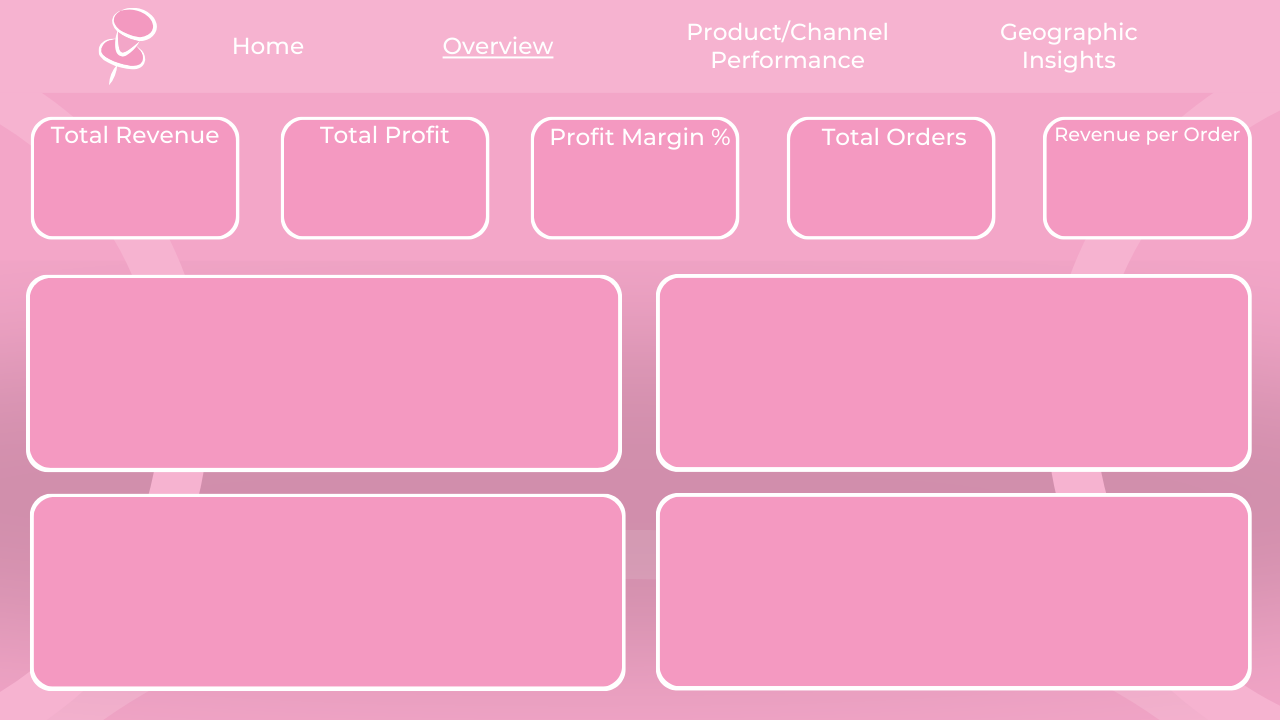

The page's visual inventory and layout, read from the dashboard file:
{"tool":"powerbi","page":{"name":"Overview","canvas":[1280,720],"ordinal":1},"visuals":[{"type":"card","fields":{"Values":["Custom Measures.Total Revenue"]},"box":[41.7,123.3,173.8,102],"z":0},{"type":"card","fields":{"Values":["Sum(Sales_data(EDA Exported).profit)"]},"box":[303.3,123.3,172.9,102],"z":1000},{"type":"card","fields":{"Values":["Custom Measures.Profit Margin %"]},"box":[553.3,123.3,172.9,102],"z":2000},{"type":"card","fields":{"Values":["CountNonNull(sales_data.order_number)"]},"box":[804.2,123.3,172.9,102],"z":3000},{"type":"card","fields":{"Values":["Custom Measures.Revenue per Order"]},"box":[1056.9,123.3,172.9,102],"z":4000},{"type":"lineChart","title":"Revenue by Month","fields":{"Category":["sales_data.order_month_name"],"Y":["Custom Measures.Total Revenue"]},"box":[41.6,274.6,571.6,207.8],"z":5000},{"type":"lineChart","title":"Profit by Month","fields":{"Y":["Custom Measures.Total Profit"],"Category":["sales_data.order_month_name"]},"box":[666.9,273.6,571.6,208.8],"z":6000},{"type":"columnChart","title":"Order Value Spectrum","fields":{"Category":["Order_Value_Distribution.OrderValue (bins)"],"Y":["CountNonNull(Order_Value_Distribution.order_number)"]},"box":[34.5,493.6,587.8,190.5],"z":7000},{"type":"scatterChart","title":"Unit Price vs Profit Margin","fields":{"X":["sales_data.unit_price"],"Y":["sales_data.profit_margin_pct"]},"box":[660.8,493.6,583.8,190.5],"z":8000},{"type":"actionButton","box":[215.6,18.9,112.2,45.6],"z":9000},{"type":"actionButton","box":[666.7,10,241.1,64.4],"z":10000},{"type":"actionButton","box":[990,10,163.3,64.4],"z":11000}]}

Visuals, with their boxes in screenshot pixels (x1, y1, x2, y2), scaled from the page's 1280x720 canvas onto the 1280x720 screenshot:
card - Custom Measures.Total Revenue: crop(42, 123, 216, 225)
card - Sum(Sales_data(EDA Exported).profit): crop(303, 123, 476, 225)
card - Custom Measures.Profit Margin %: crop(553, 123, 726, 225)
card - CountNonNull(sales_data.order_number): crop(804, 123, 977, 225)
card - Custom Measures.Revenue per Order: crop(1057, 123, 1230, 225)
"Revenue by Month" lineChart: crop(42, 275, 613, 482)
"Profit by Month" lineChart: crop(667, 274, 1238, 482)
"Order Value Spectrum" columnChart: crop(34, 494, 622, 684)
"Unit Price vs Profit Margin" scatterChart: crop(661, 494, 1245, 684)
actionButton: crop(216, 19, 328, 64)
actionButton: crop(667, 10, 908, 74)
actionButton: crop(990, 10, 1153, 74)
